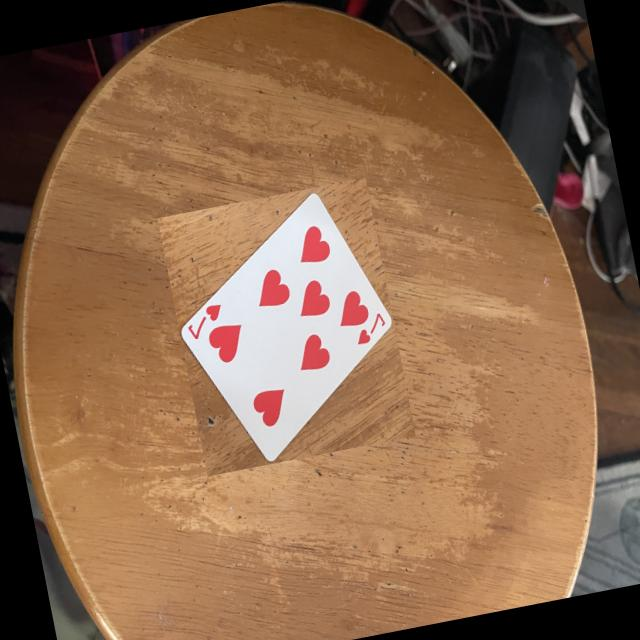7 of hearts: (177, 188, 392, 464)
